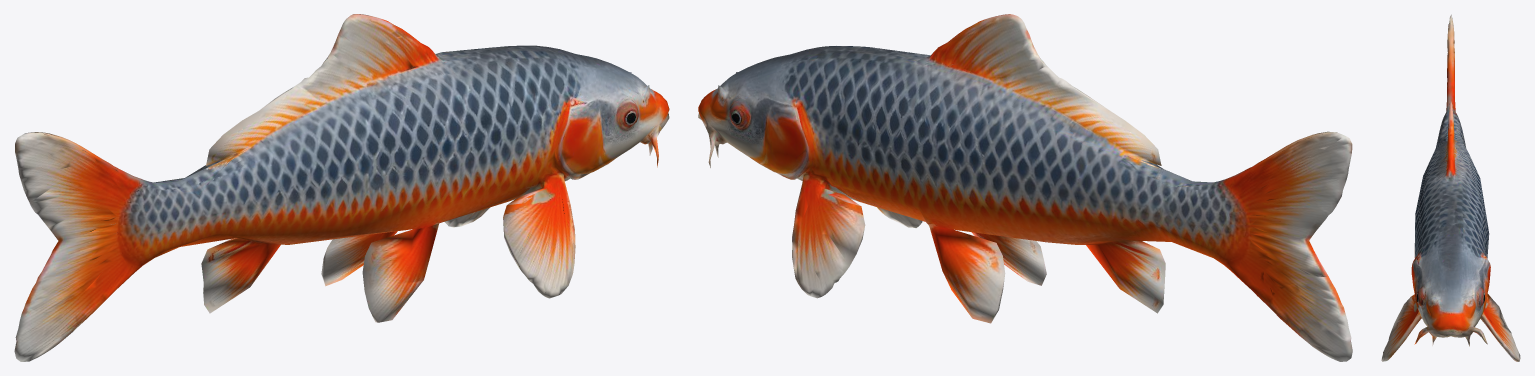
File: asagi.glb
3 views of the same model, side by side, from view 1: azimuth 30°, elevation 25°; view 2: azimuth 150°, elevation 25°; view 3: azimuth 270°, elevation 25° (orthographic). The views are drawn at different scales.
Parts seen in each view (by area): view 1: asagi; view 2: asagi; view 3: asagi.
Boxes of the visible parts, left/top/right/bottom form: asagi: left=14, top=14, right=669, bottom=361; asagi: left=698, top=14, right=1352, bottom=361; asagi: left=1381, top=14, right=1520, bottom=361.
Size of the model in its own units: 1 by 0.4253 by 0.2574.
Materials: 1 (1 with a texture image).
